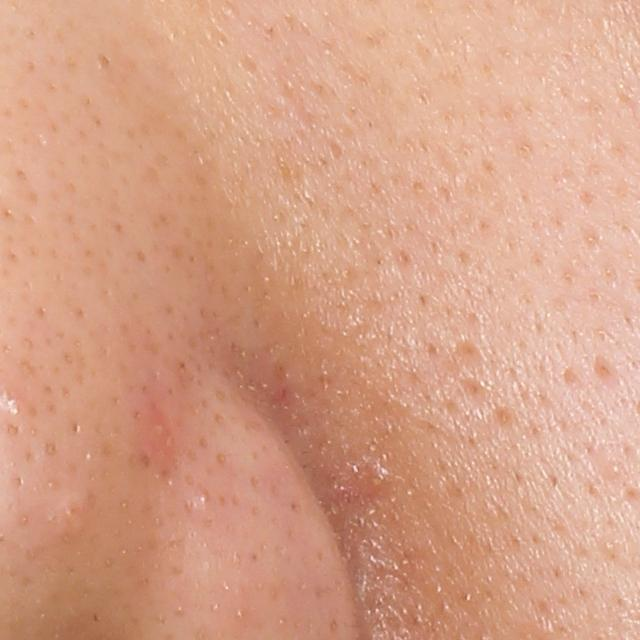atrophic_scar: (594, 353, 619, 386)
comedo: (603, 456, 628, 480)
